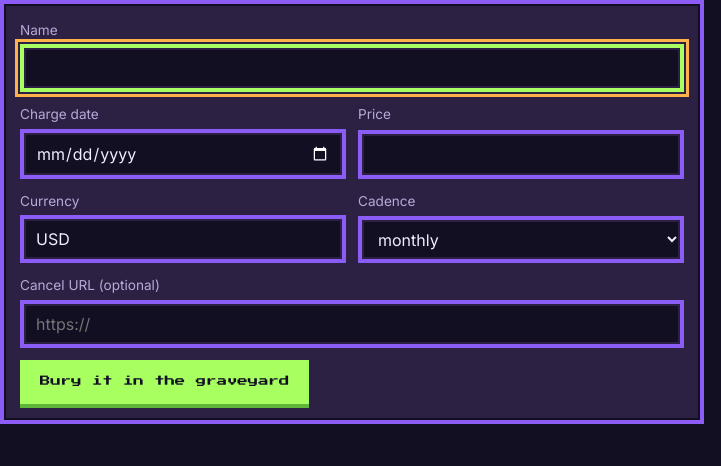
GraveForm › shows an inline error and does not save: missing date
Type "A" into the field labelled "Name" at (352, 68), box [20,44,684,92]
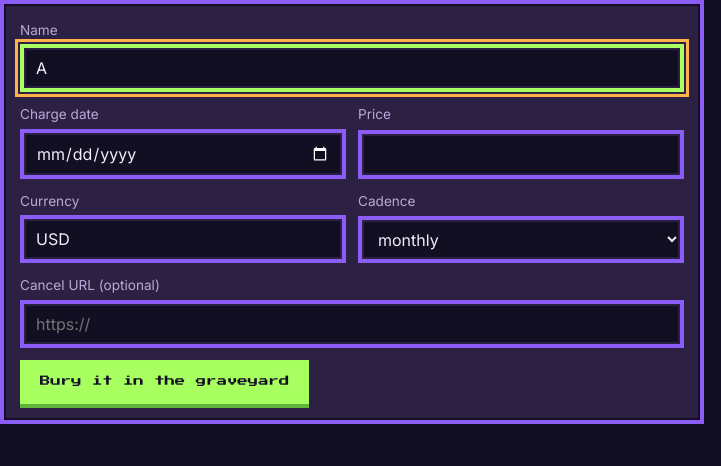
Type "5" into the field labelled "Price" at (521, 154), box [358,130,684,179]
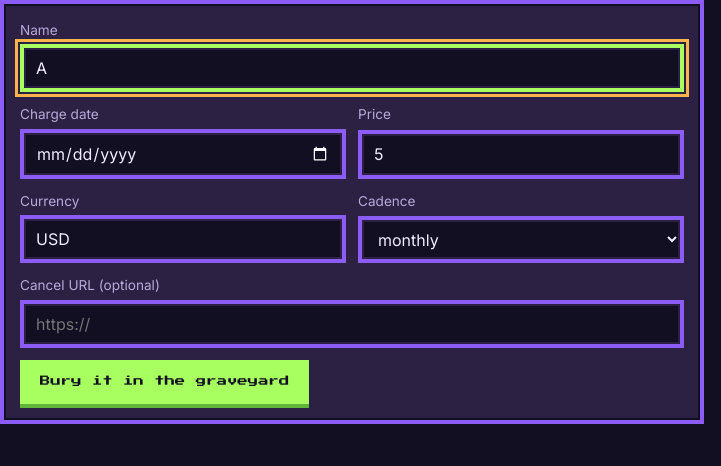
Submit the form named "Grave details"
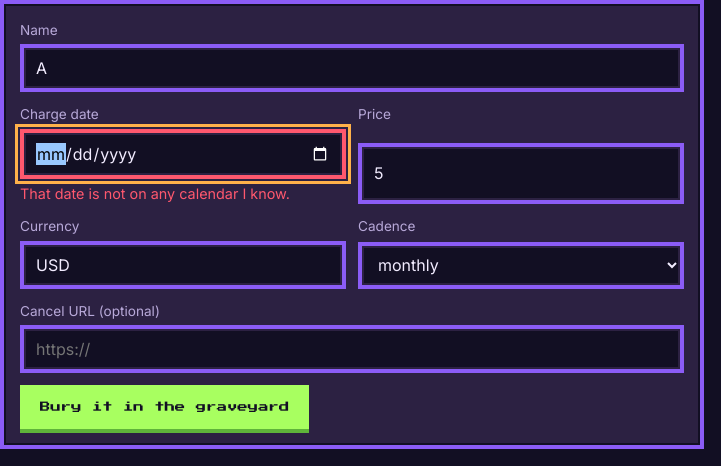
Check: the message reads "That date is not on any calendar I know.", box [20,185,290,202]
